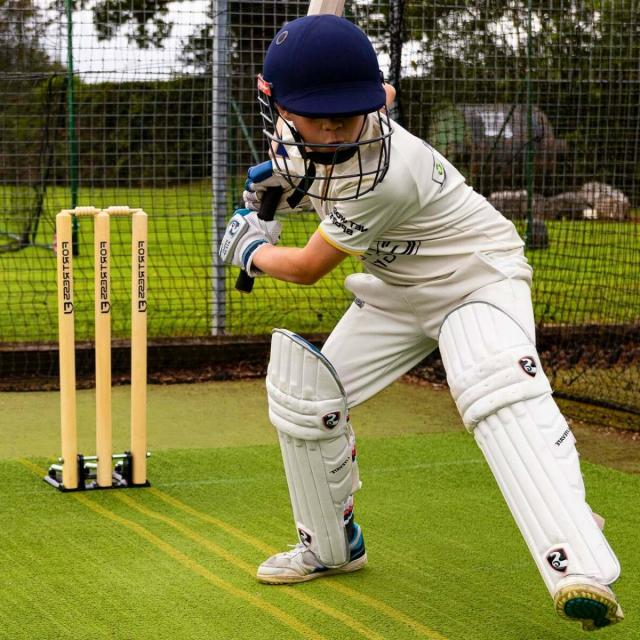stump: (54, 202, 150, 492)
